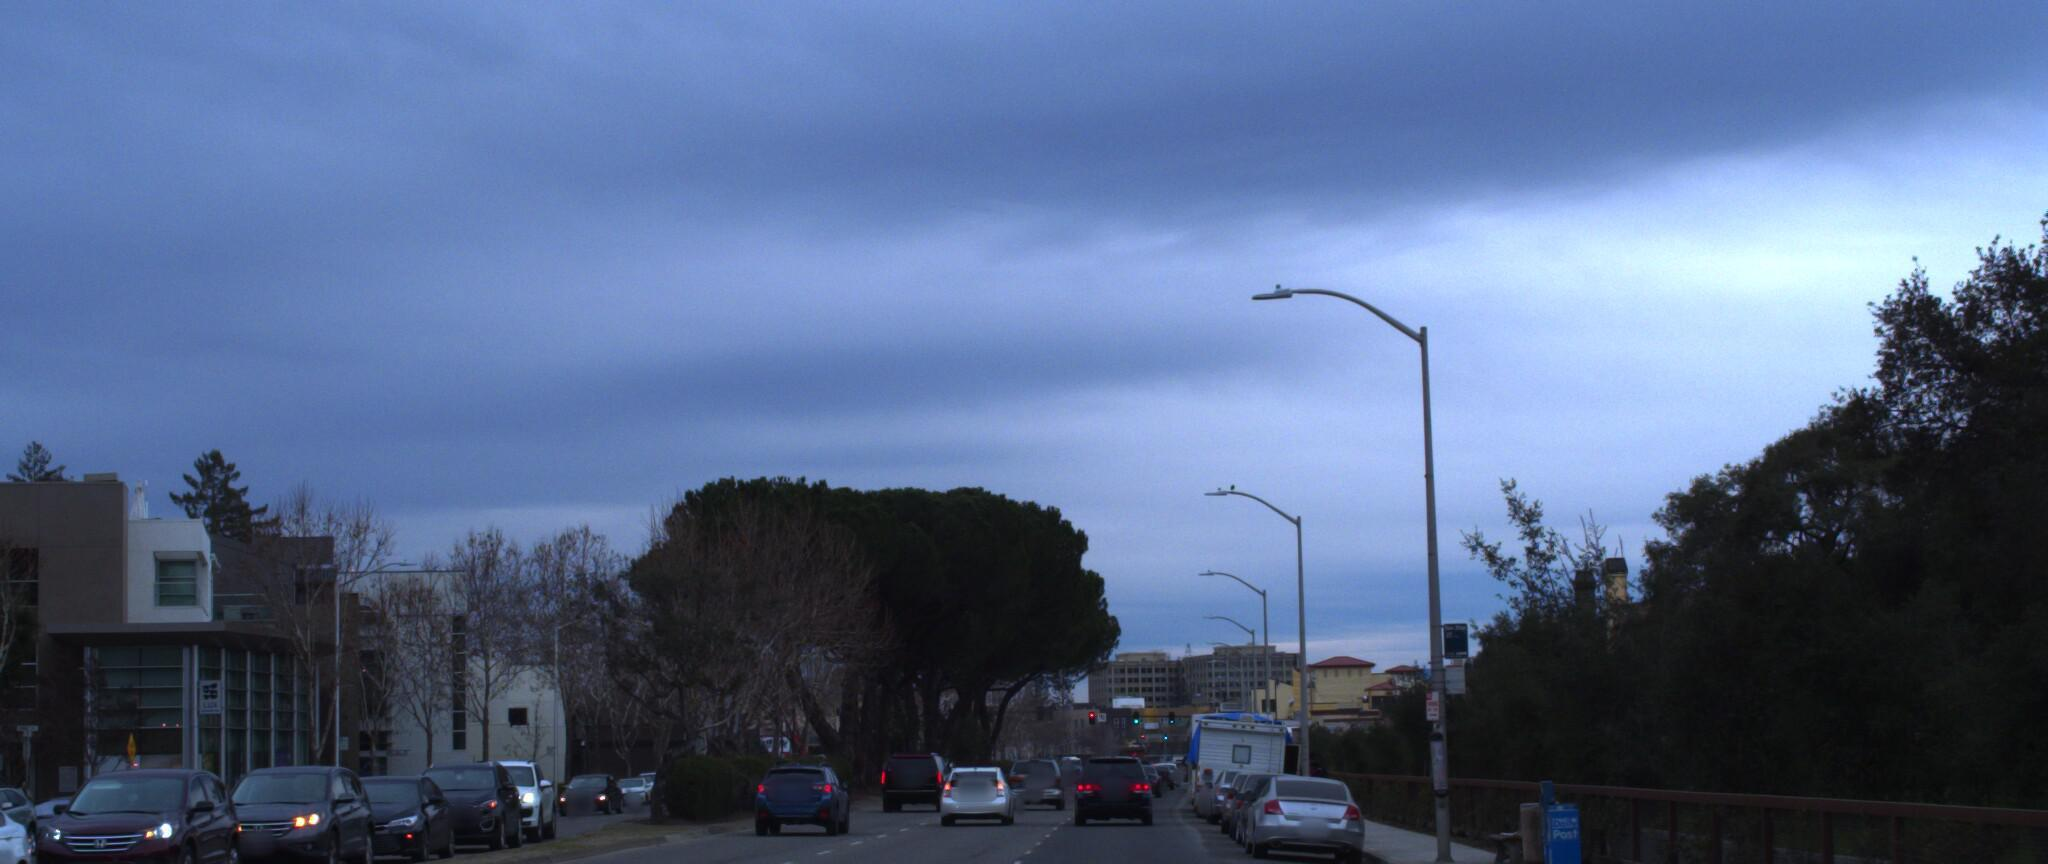car: (31, 753, 260, 864), (196, 750, 391, 864), (310, 761, 473, 857), (398, 745, 534, 843), (1236, 760, 1358, 851), (441, 744, 566, 834), (744, 749, 849, 826), (1068, 748, 1149, 820), (938, 750, 1021, 814)
